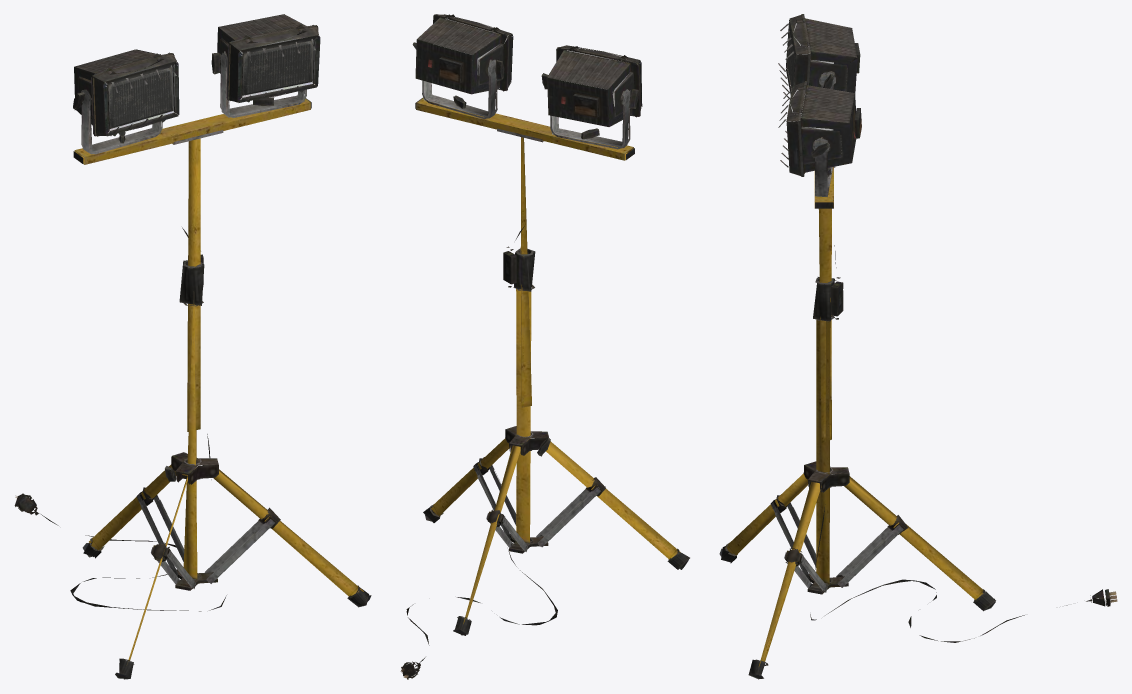
File: ph_flood_double.glb
The picture shows the model from 3 angles, left to right: view 1: azimuth 30°, elevation 25°; view 2: azimuth 150°, elevation 25°; view 3: azimuth 270°, elevation 25°; orthographic projection. The views are drawn at different scales.
Visible parts, largest first — view 1: flood_lights_standing_double_c_bar; view 2: flood_lights_standing_double_c_bar; view 3: flood_lights_standing_double_c_bar.
Part boxes in pixels (x1,y1,x2,y2): flood_lights_standing_double_c_bar: [14, 14, 371, 679]; flood_lights_standing_double_c_bar: [400, 14, 689, 679]; flood_lights_standing_double_c_bar: [719, 14, 1117, 679].
Bounding box in the file's own units: 0.7642 × 1.56 × 1.02.
2 materials, 2 textured.
